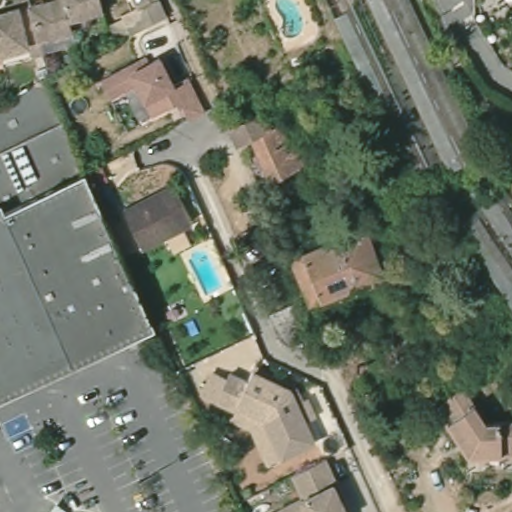pool: (190, 248, 228, 299), (270, 1, 309, 39)
